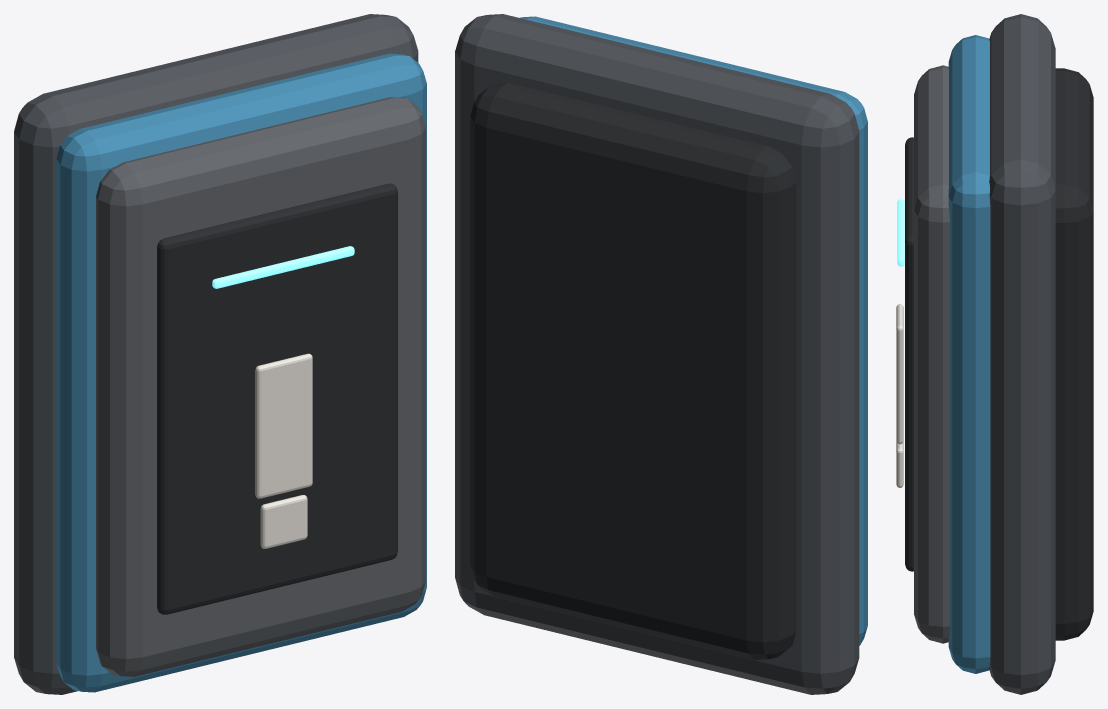
File: KickTarget.fbx
The picture shows the model from 3 angles, left to right: view 1: azimuth 30°, elevation 25°; view 2: azimuth 150°, elevation 25°; view 3: azimuth 270°, elevation 25°; orthographic projection. The views are drawn at different scales.
Visible parts, largest first — view 1: ImpactPanel, Padding, Frame.001, Border, FootSole, FootHeel, EmissiveAccent.001; view 2: RearHousing.001, Frame.001, Border; view 3: Frame.001, Border, RearHousing.001, Padding, ImpactPanel, FootSole, EmissiveAccent.001, FootHeel.
Part boxes in pixels (<box>): ImpactPanel: <box>157,183,397,614</box>; Padding: <box>96,97,425,676</box>; Frame.001: <box>14,14,418,694</box>; Border: <box>56,53,426,692</box>; FootSole: <box>255,353,312,498</box>; FootHeel: <box>260,495,307,548</box>; EmissiveAccent.001: <box>212,246,354,288</box>; RearHousing.001: <box>470,83,796,659</box>; Frame.001: <box>455,14,859,694</box>; Border: <box>520,16,867,645</box>; Frame.001: <box>989,14,1055,694</box>; Border: <box>948,35,990,673</box>; RearHousing.001: <box>1055,68,1093,640</box>; Padding: <box>914,65,949,643</box>; ImpactPanel: <box>905,137,913,571</box>; FootSole: <box>896,304,903,444</box>; EmissiveAccent.001: <box>897,199,904,266</box>; FootHeel: <box>896,441,903,487</box>.
Bounding box in the file's own units: 112 × 162 × 54.4.
